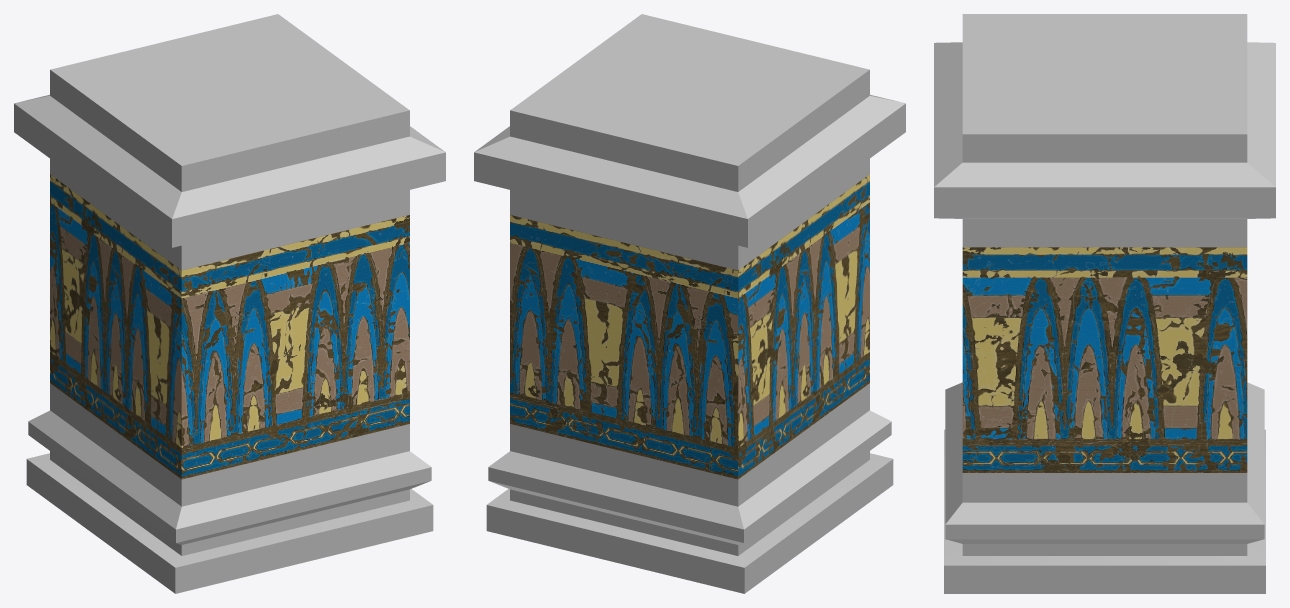
The model's file is SM_Column_End_03.fbx.
3 renders of one model, left to right at view 1: azimuth 30°, elevation 25°; view 2: azimuth 150°, elevation 25°; view 3: azimuth 270°, elevation 25°, orthographic. The views are drawn at different scales.
Parts seen in each view (by area): view 1: SM_Column_End_03_LOD0; view 2: SM_Column_End_03_LOD0; view 3: SM_Column_End_03_LOD0.
Boxes of the visible parts, <box> form: SM_Column_End_03_LOD0: <box>14,14,445,593</box>; SM_Column_End_03_LOD0: <box>474,14,905,593</box>; SM_Column_End_03_LOD0: <box>934,14,1275,593</box>.
Bounding box in the file's own units: 89.12 × 89.12 × 130.
